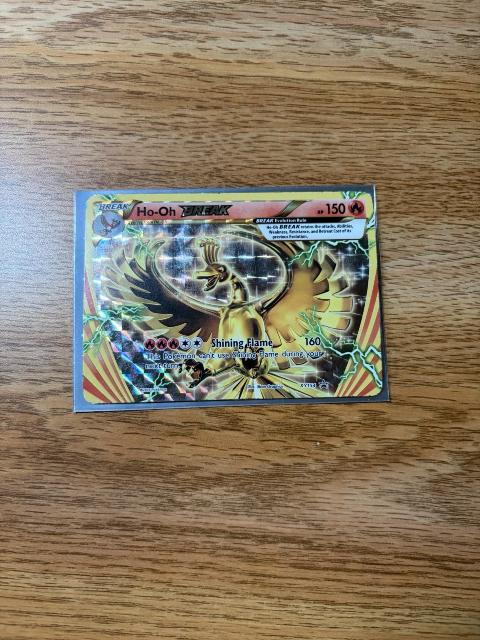Card: (80, 187, 390, 408)
Name: (133, 202, 238, 220)
